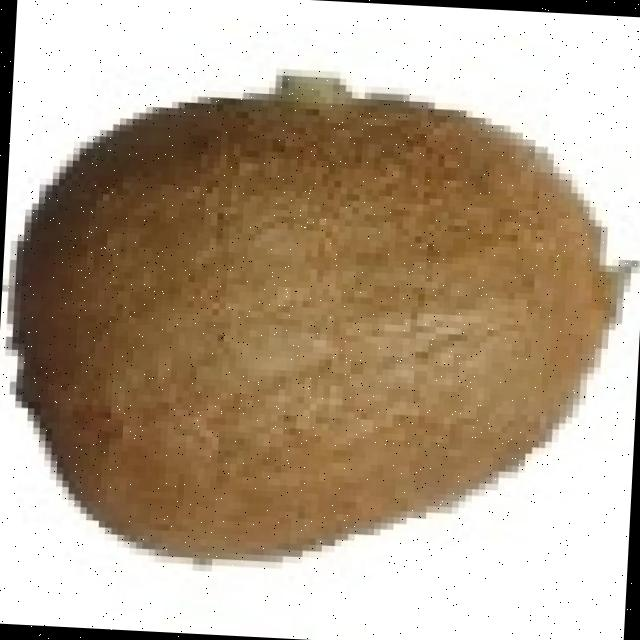kiwi: (27, 94, 622, 568)
